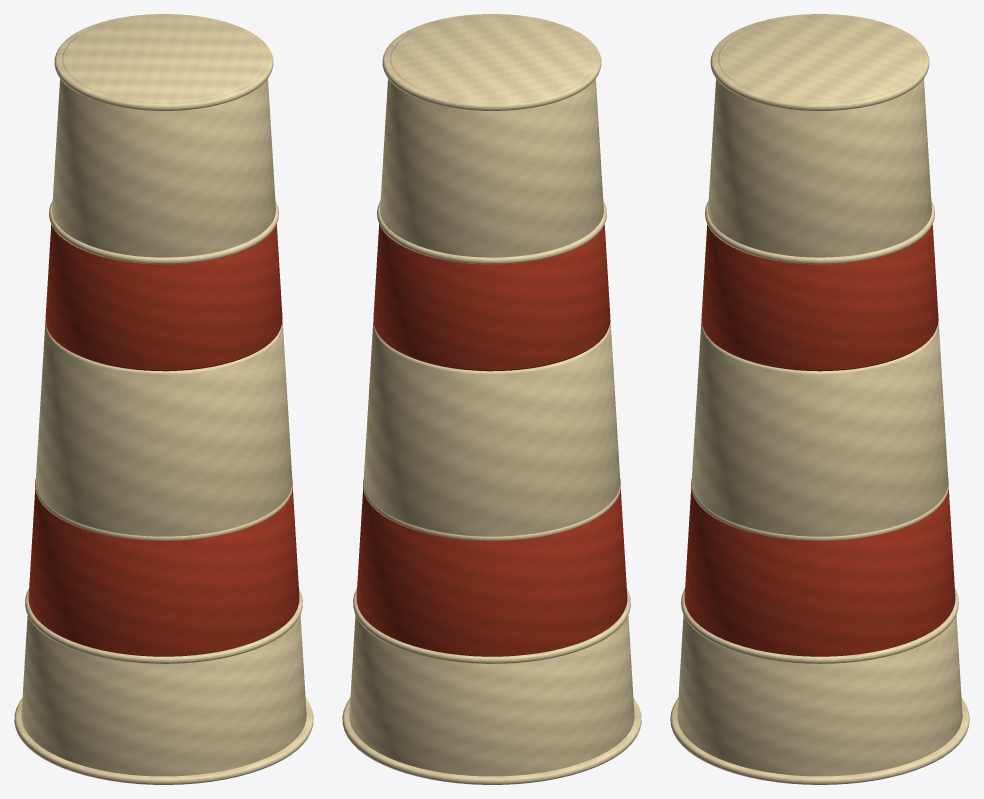
File: Lighthouse_Tower.fbx
The picture shows the model from 3 angles, left to right: view 1: azimuth 30°, elevation 25°; view 2: azimuth 150°, elevation 25°; view 3: azimuth 270°, elevation 25°; orthographic projection.
Parts seen in each view (by area): view 1: Lighthouse_Tower; view 2: Lighthouse_Tower; view 3: Lighthouse_Tower.
Boxes of the visible parts, bbox=[...] form: Lighthouse_Tower: bbox=[14, 14, 313, 784]; Lighthouse_Tower: bbox=[342, 14, 641, 784]; Lighthouse_Tower: bbox=[670, 14, 969, 784].
Bounding box in the file's own units: 700 × 700 × 1720.
